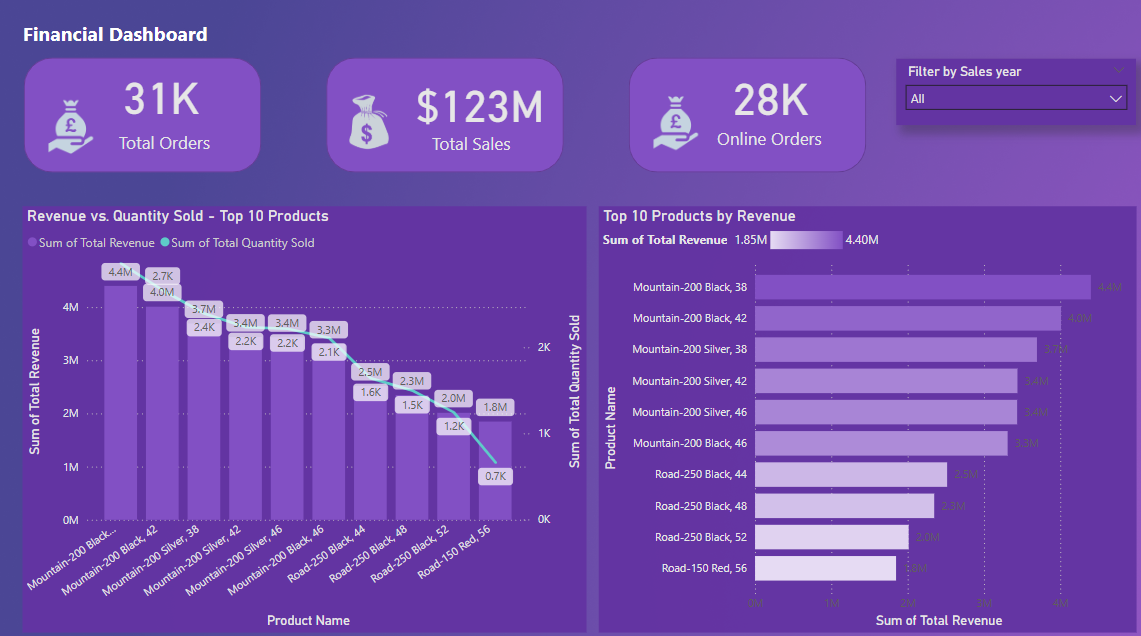

Layout of this report page (visuals, bound fields, positions):
{"tool":"powerbi","page":{"name":"Dashboard 1","canvas":[1280,720],"ordinal":0},"visuals":[{"type":"shape","box":[379.5,74.1,260.7,126.2],"z":0},{"type":"image","box":[393.2,108.8,65.9,72.7],"z":1000},{"type":"card","fields":{"Values":["All Measures.Sales_Total"]},"box":[445.3,75.5,205.8,93.3],"z":2000},{"type":"shape","box":[47.4,74.1,260.7,126.2],"z":3000},{"type":"shape","box":[711.5,74.1,260.7,126.2],"z":4000},{"type":"image","box":[47.4,113.9,102.9,72.7],"z":5000},{"type":"textbox","box":[106.4,149.6,190.7,37],"z":6000},{"type":"card","fields":{"Values":["Sum(Total Transactions.TotalTransactions)"]},"box":[99.5,81.3,197.6,65.9],"z":7000},{"type":"textbox","box":[476.9,150.9,123.5,37],"z":8000},{"type":"card","fields":{"Values":["Sum(Online_Orders.OnlineOrders)"]},"box":[771.9,81,190.7,68.6],"z":9000},{"type":"image","box":[712.8,109.6,102.9,72.7],"z":10000},{"type":"textbox","box":[771.8,145.3,190.7,37],"z":11000},{"type":"textbox","box":[0,26.9,297.1,46.5],"z":12000},{"type":"lineClusteredColumnComboChart","title":"Revenue vs. Quantity Sold - Top 10 Products","fields":{"Category":["Top_Products.Product Name"],"Y":["Sum(Top_Products.Total Revenue)"],"Y2":["Sum(Top_Products.Total Quantity Sold)"]},"box":[46.7,237.4,618.9,467.9],"z":13000},{"type":"clusteredBarChart","title":"Top 10 Products by Revenue","fields":{"Category":["Top_Products.Product Name"],"Y":["Sum(Top_Products.Total Revenue)"]},"box":[679.2,237.4,590.1,467.9],"z":14000},{"type":"slicer","fields":{"Values":["Sales.Sales Year"]},"box":[1005.8,75.5,263.5,72.7],"z":15000}]}

Visuals, with their boxes in screenshot pixels (x1, y1, x2, y2), scaled from the page's 1280x720 canvas onto the 1141x636 screenshot:
shape: {"left": 338, "top": 65, "right": 571, "bottom": 177}
image: {"left": 351, "top": 96, "right": 409, "bottom": 160}
card - All Measures.Sales_Total: {"left": 397, "top": 67, "right": 580, "bottom": 149}
shape: {"left": 42, "top": 65, "right": 275, "bottom": 177}
shape: {"left": 634, "top": 65, "right": 867, "bottom": 177}
image: {"left": 42, "top": 101, "right": 134, "bottom": 165}
textbox: {"left": 95, "top": 132, "right": 265, "bottom": 165}
card - Sum(Total Transactions.TotalTransactions): {"left": 89, "top": 72, "right": 265, "bottom": 130}
textbox: {"left": 425, "top": 133, "right": 535, "bottom": 166}
card - Sum(Online_Orders.OnlineOrders): {"left": 688, "top": 72, "right": 858, "bottom": 132}
image: {"left": 635, "top": 97, "right": 727, "bottom": 161}
textbox: {"left": 688, "top": 128, "right": 858, "bottom": 161}
textbox: {"left": 0, "top": 24, "right": 265, "bottom": 65}
"Revenue vs. Quantity Sold - Top 10 Products" lineClusteredColumnComboChart: {"left": 42, "top": 210, "right": 593, "bottom": 623}
"Top 10 Products by Revenue" clusteredBarChart: {"left": 605, "top": 210, "right": 1131, "bottom": 623}
slicer - Sales.Sales Year: {"left": 897, "top": 67, "right": 1131, "bottom": 131}
